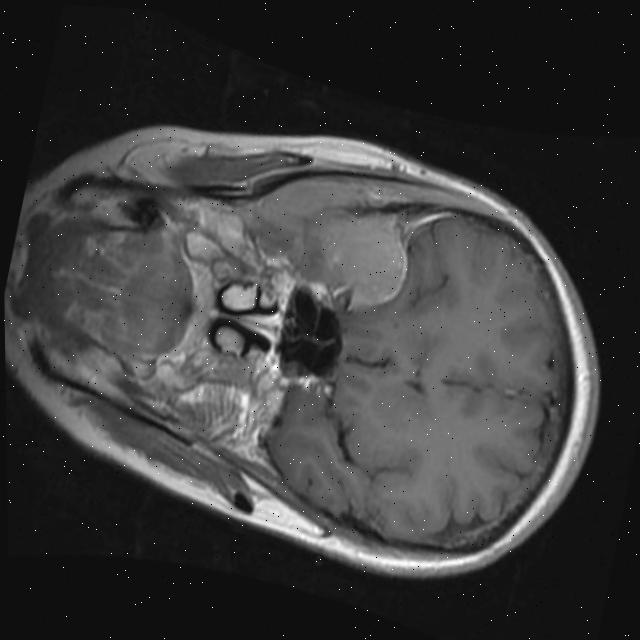Meningioma: (300, 191, 420, 325)
